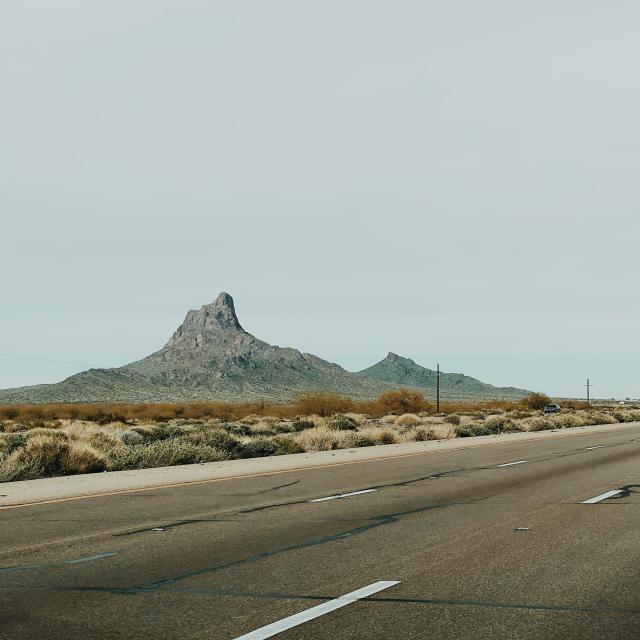Concrete: (0, 421, 640, 640)
